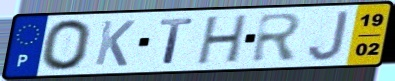H: (194, 13, 251, 67)
J: (305, 9, 351, 63)
K: (92, 19, 138, 68)
O: (40, 17, 95, 73)
R: (249, 11, 305, 65)
T: (156, 17, 196, 66)
